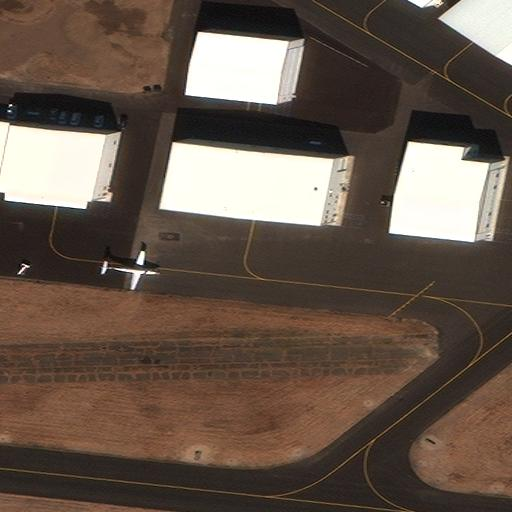Medium Civil Transport: (99, 250, 159, 290)
